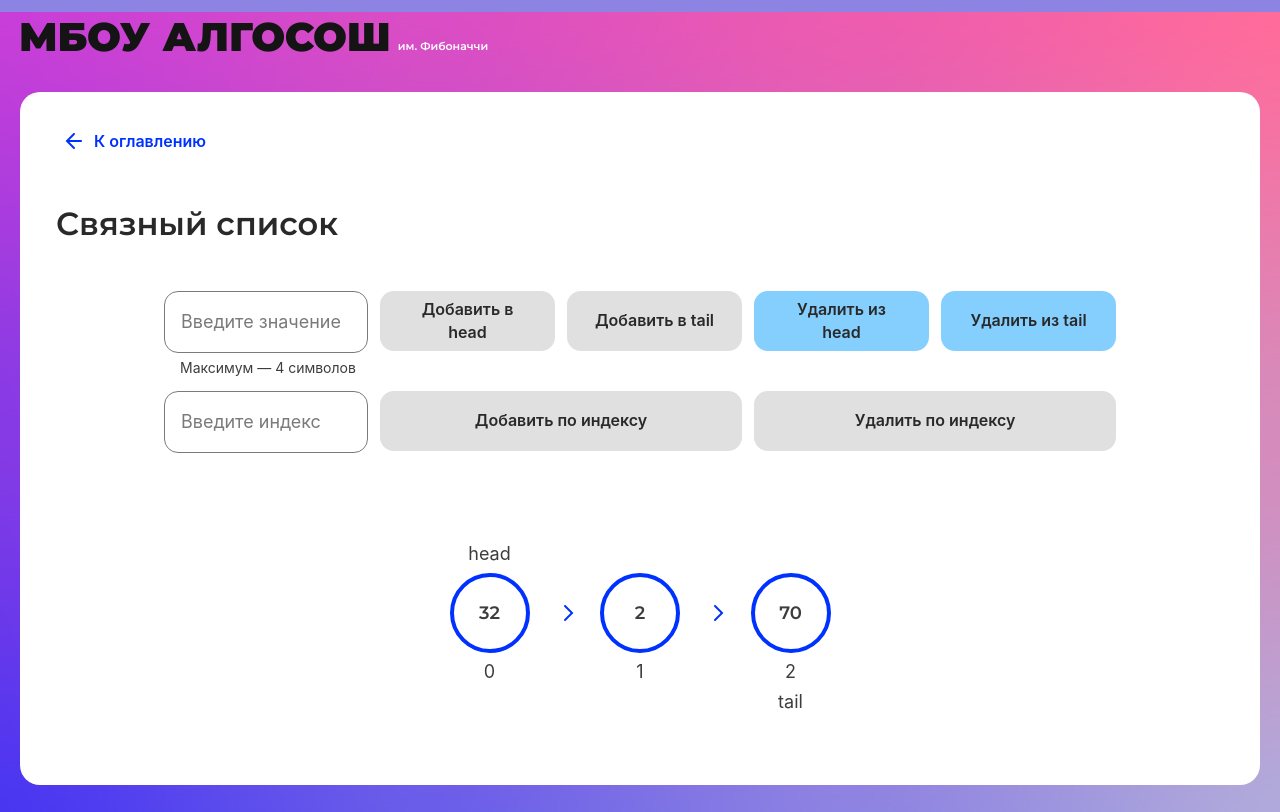
Проверка работы страницы списка: › удаление элемента по индексу
Type "5" into the field with test id "val" at (266, 322), box top-left (164, 291), bottom-right (368, 353)
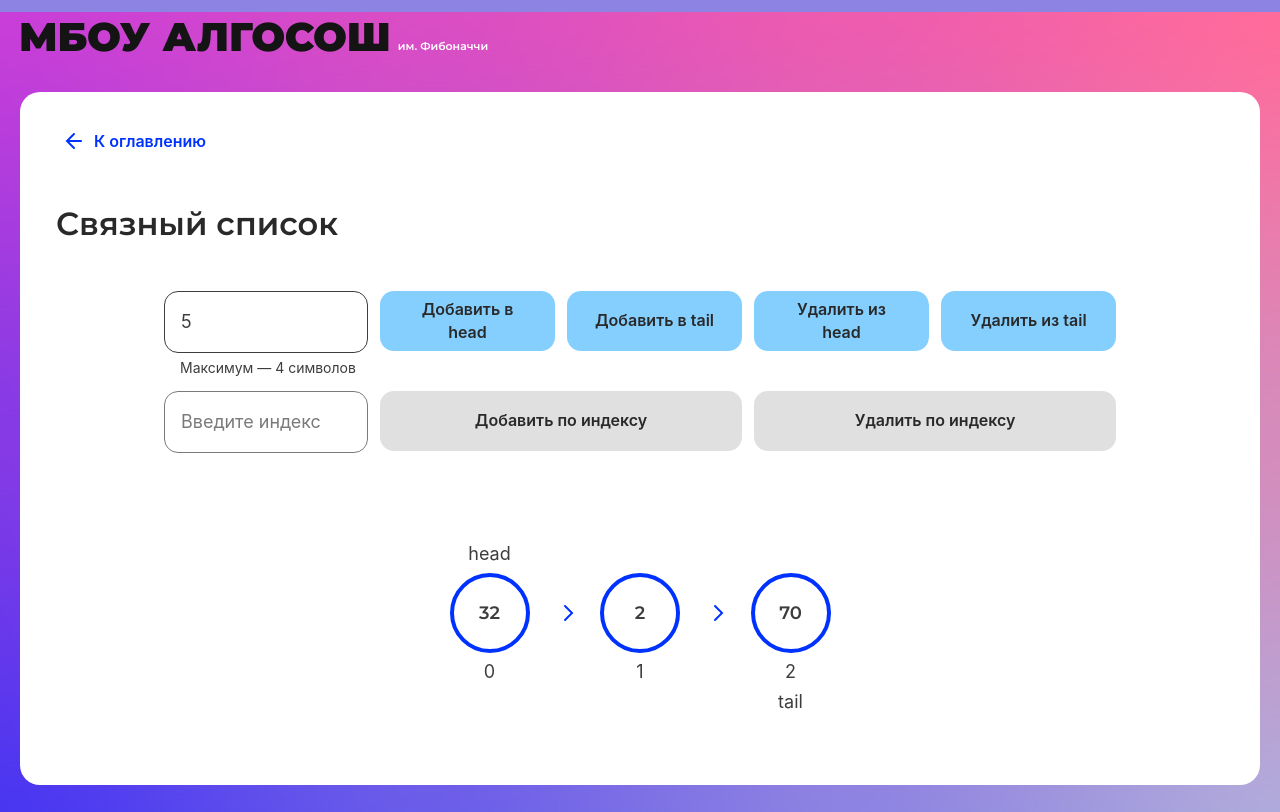
Type "2" into the number field with test id "index" at (266, 422), box top-left (164, 391), bottom-right (368, 453)
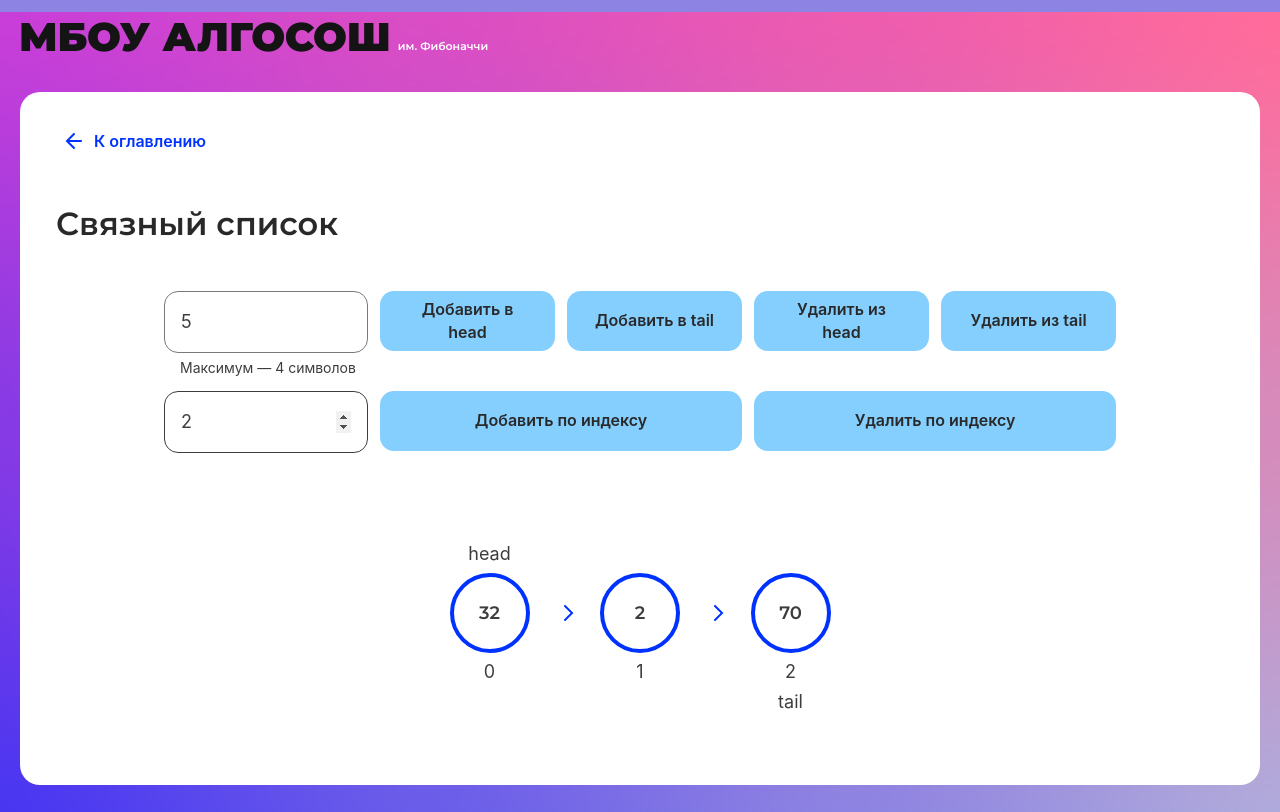
expect the element with test id "delI" is enabled: met
Click the button with test id "delI" at (935, 421), box top-left (754, 391), bottom-right (1116, 451)
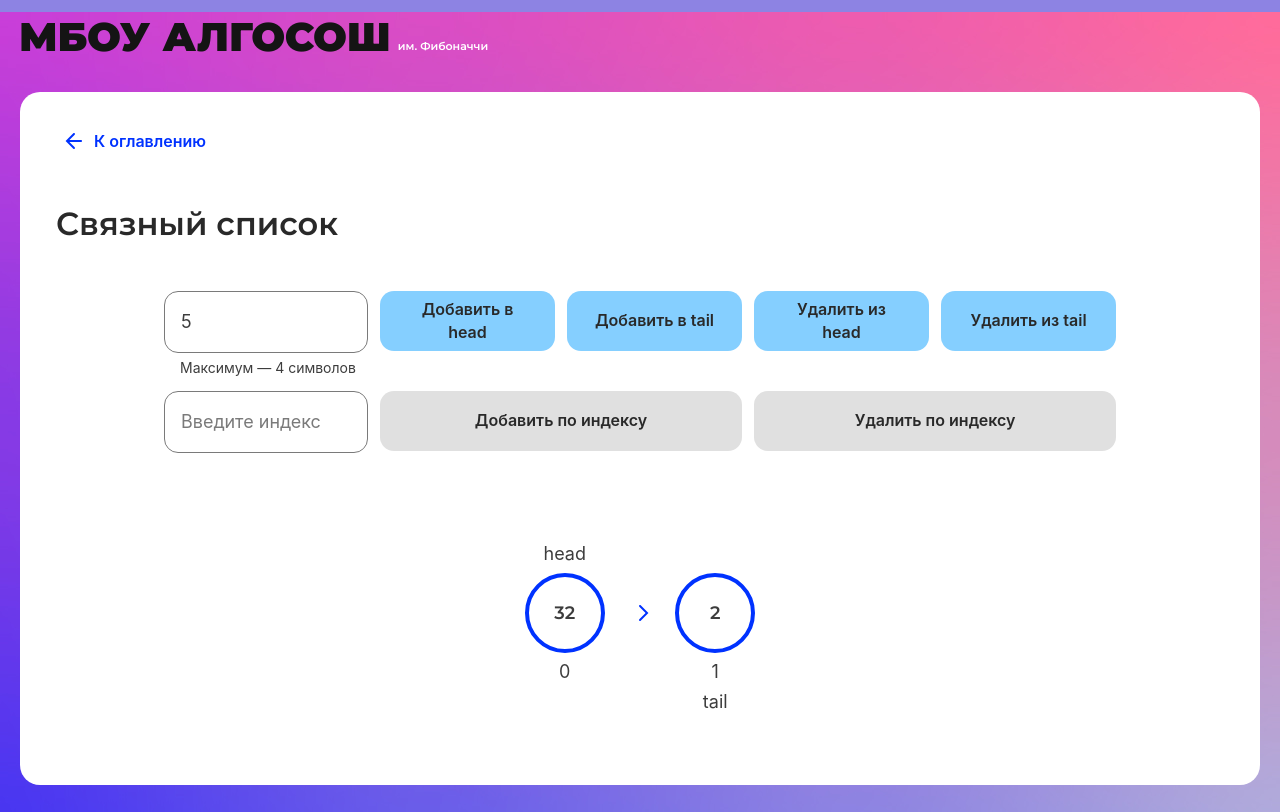
expect the number of elements with test id "circle" is 2: met, box top-left (525, 573), bottom-right (605, 653); top-left (675, 573), bottom-right (755, 653)
